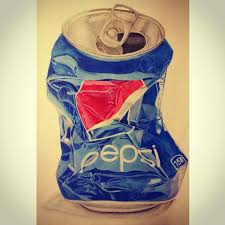can: (45, 4, 188, 220)
